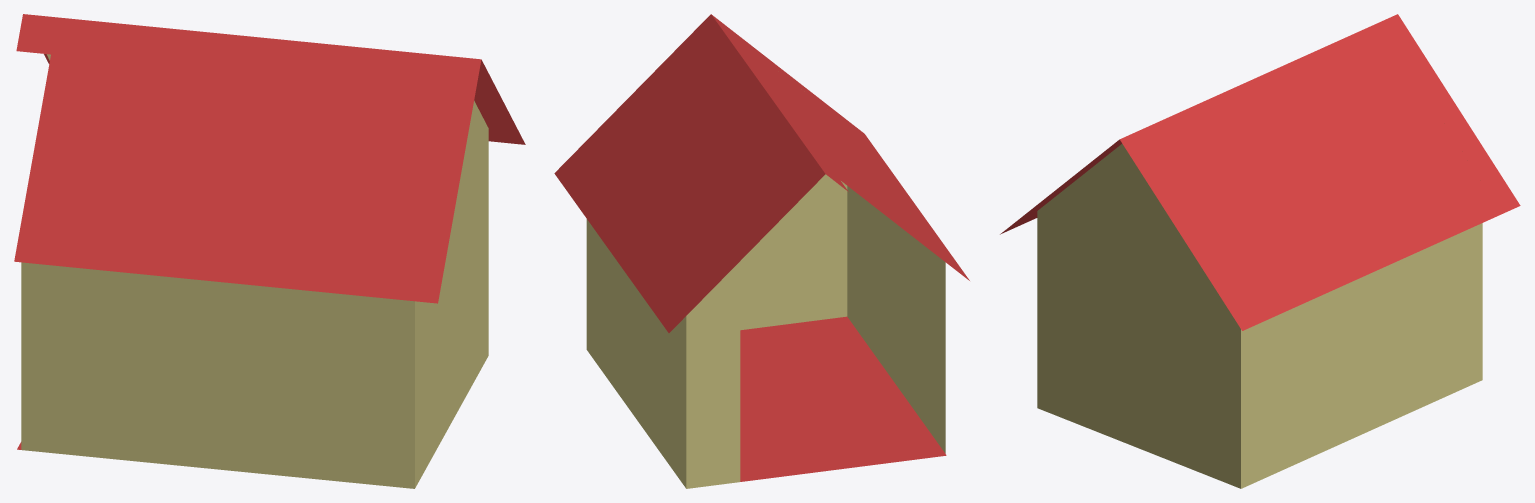
3 views of the same model, side by side, from view 1: azimuth 30°, elevation 25°; view 2: azimuth 150°, elevation 25°; view 3: azimuth 270°, elevation 25° (orthographic). The views are drawn at different scales.
Size of the model in its own units: 14.06 by 14.6 by 9.79.
